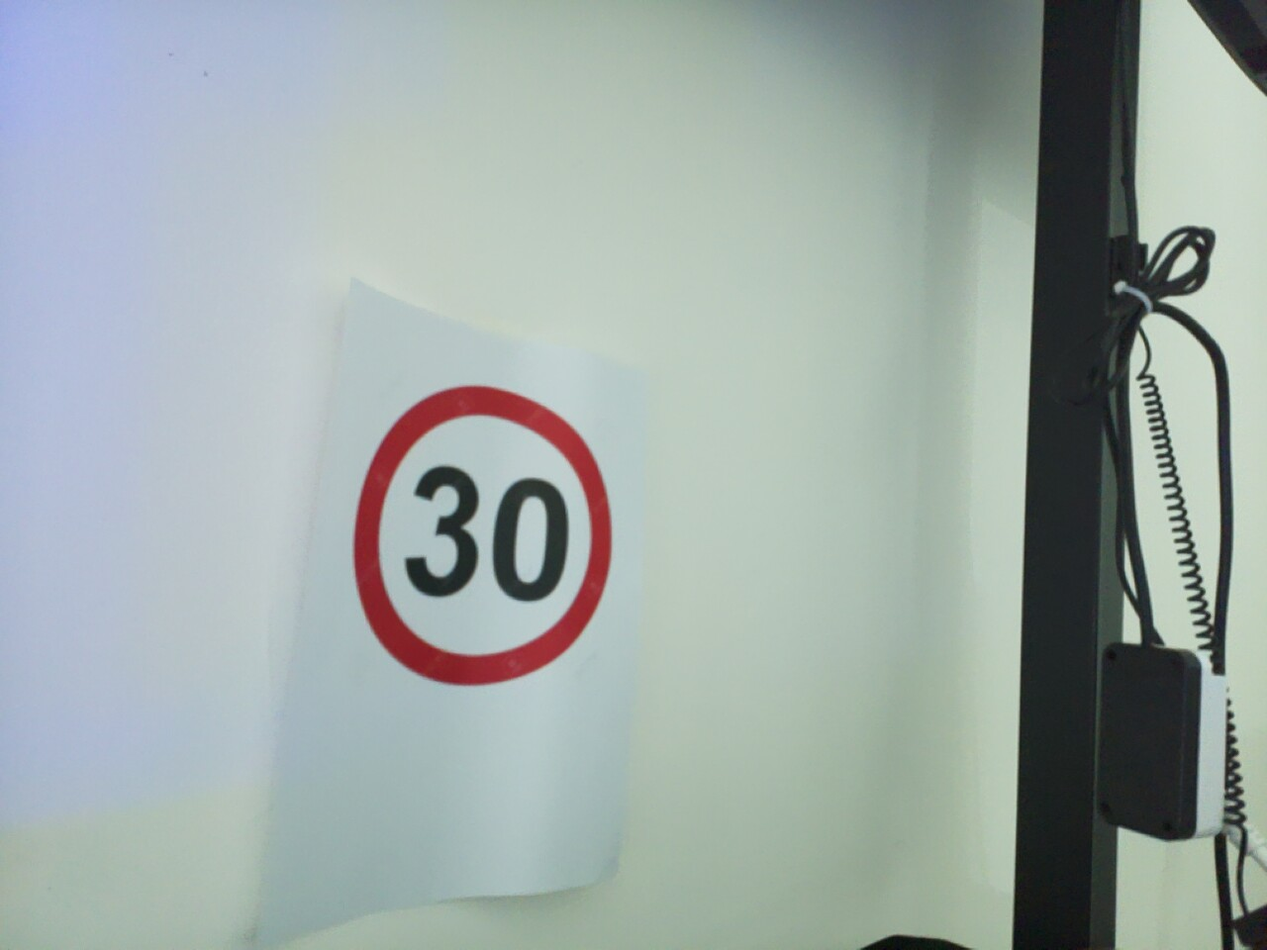speed_30: (344, 376, 621, 696)
